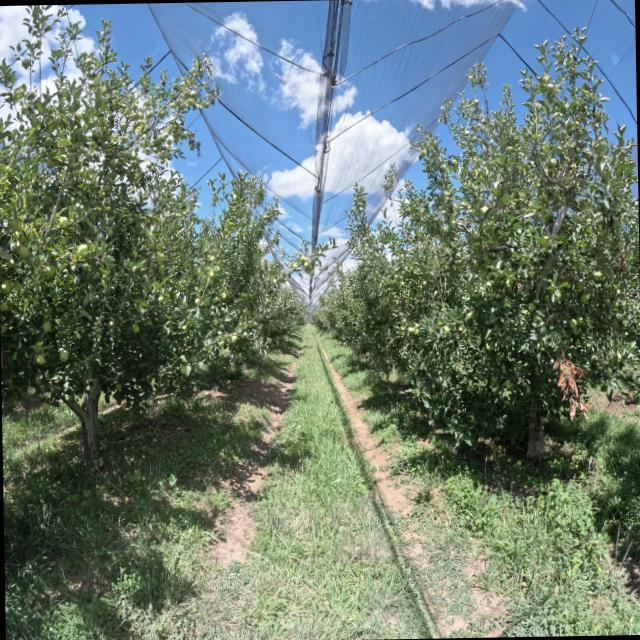-FireBlight-: (552, 356, 590, 422)
